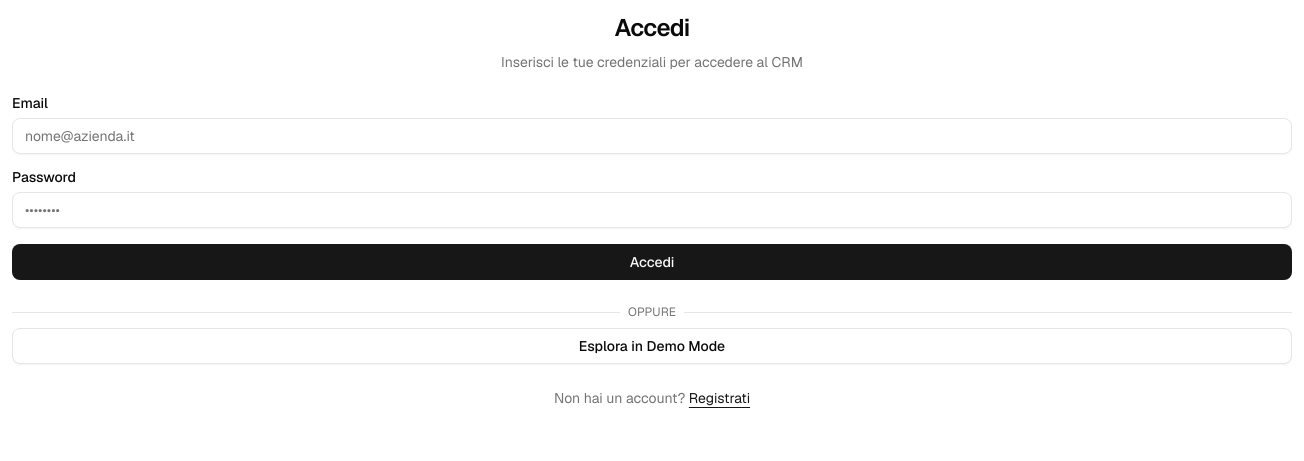
Test: SignInForm › shows inline error message on invalid credentials
This screenshot has width=1304, height=461.
Type "wrong@example.com" into the field labelled "Email".
click(652, 136); type("wrong@example.com")  # box [12,118,1292,154]
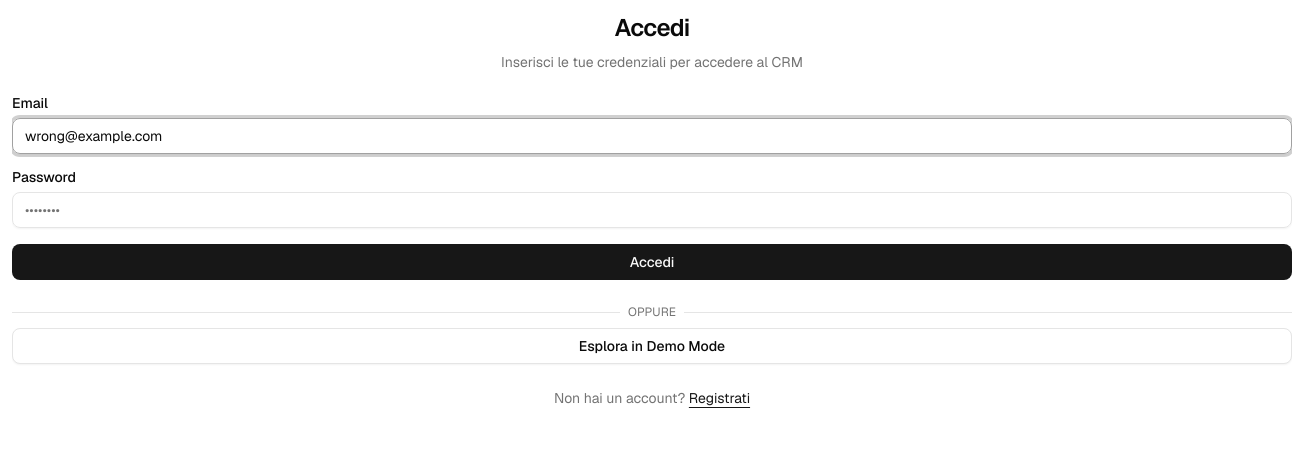
Type "wrongpassword" into the password field labelled "Password".
click(652, 210); type("wrongpassword")  # box [12,192,1292,228]
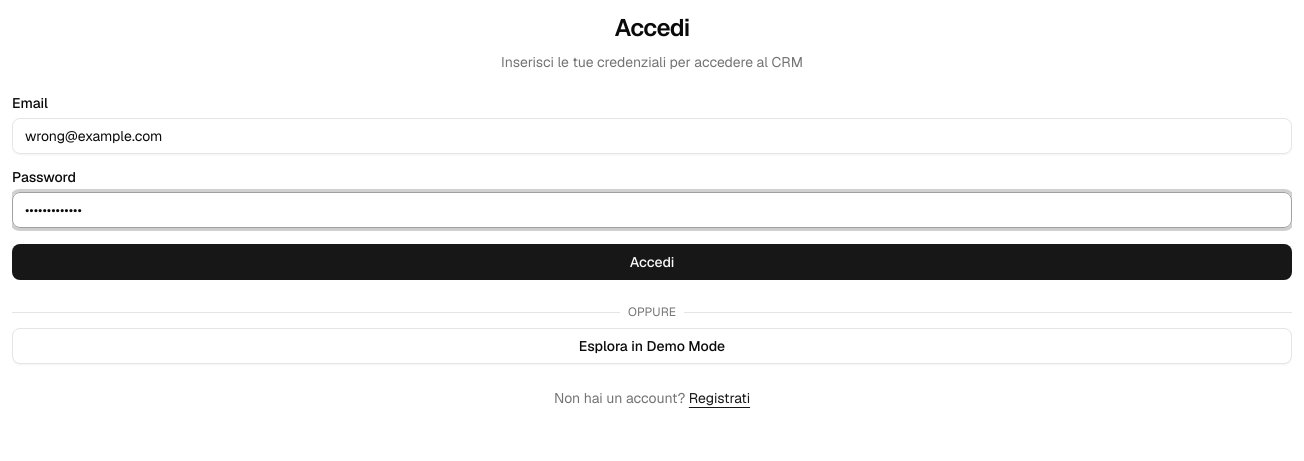
Click the button "Accedi".
click(652, 262)  # box [12,244,1292,280]
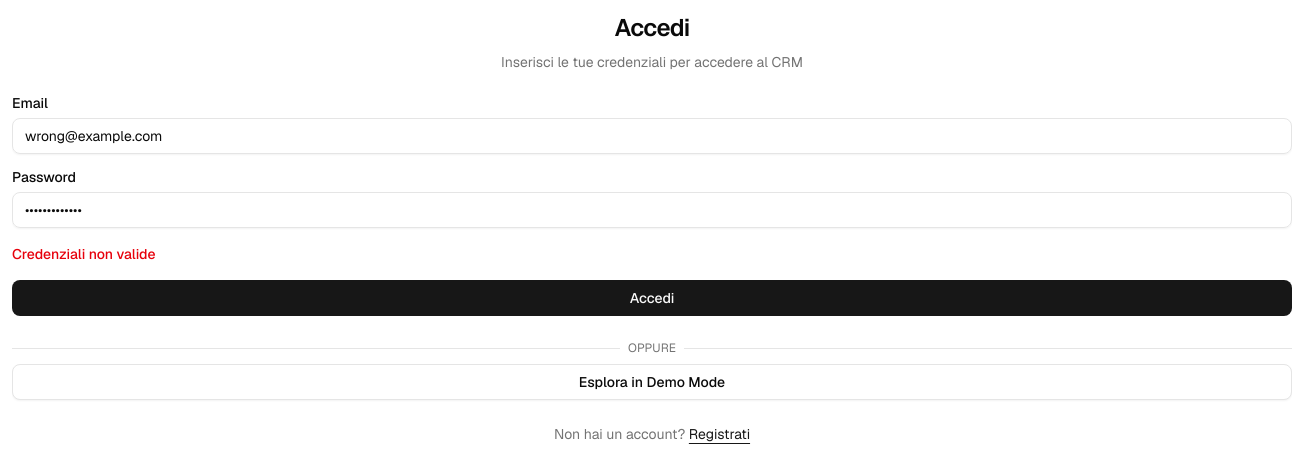
Expected: the text "Credenziali non valide" is shown, [12,245,156,263]
